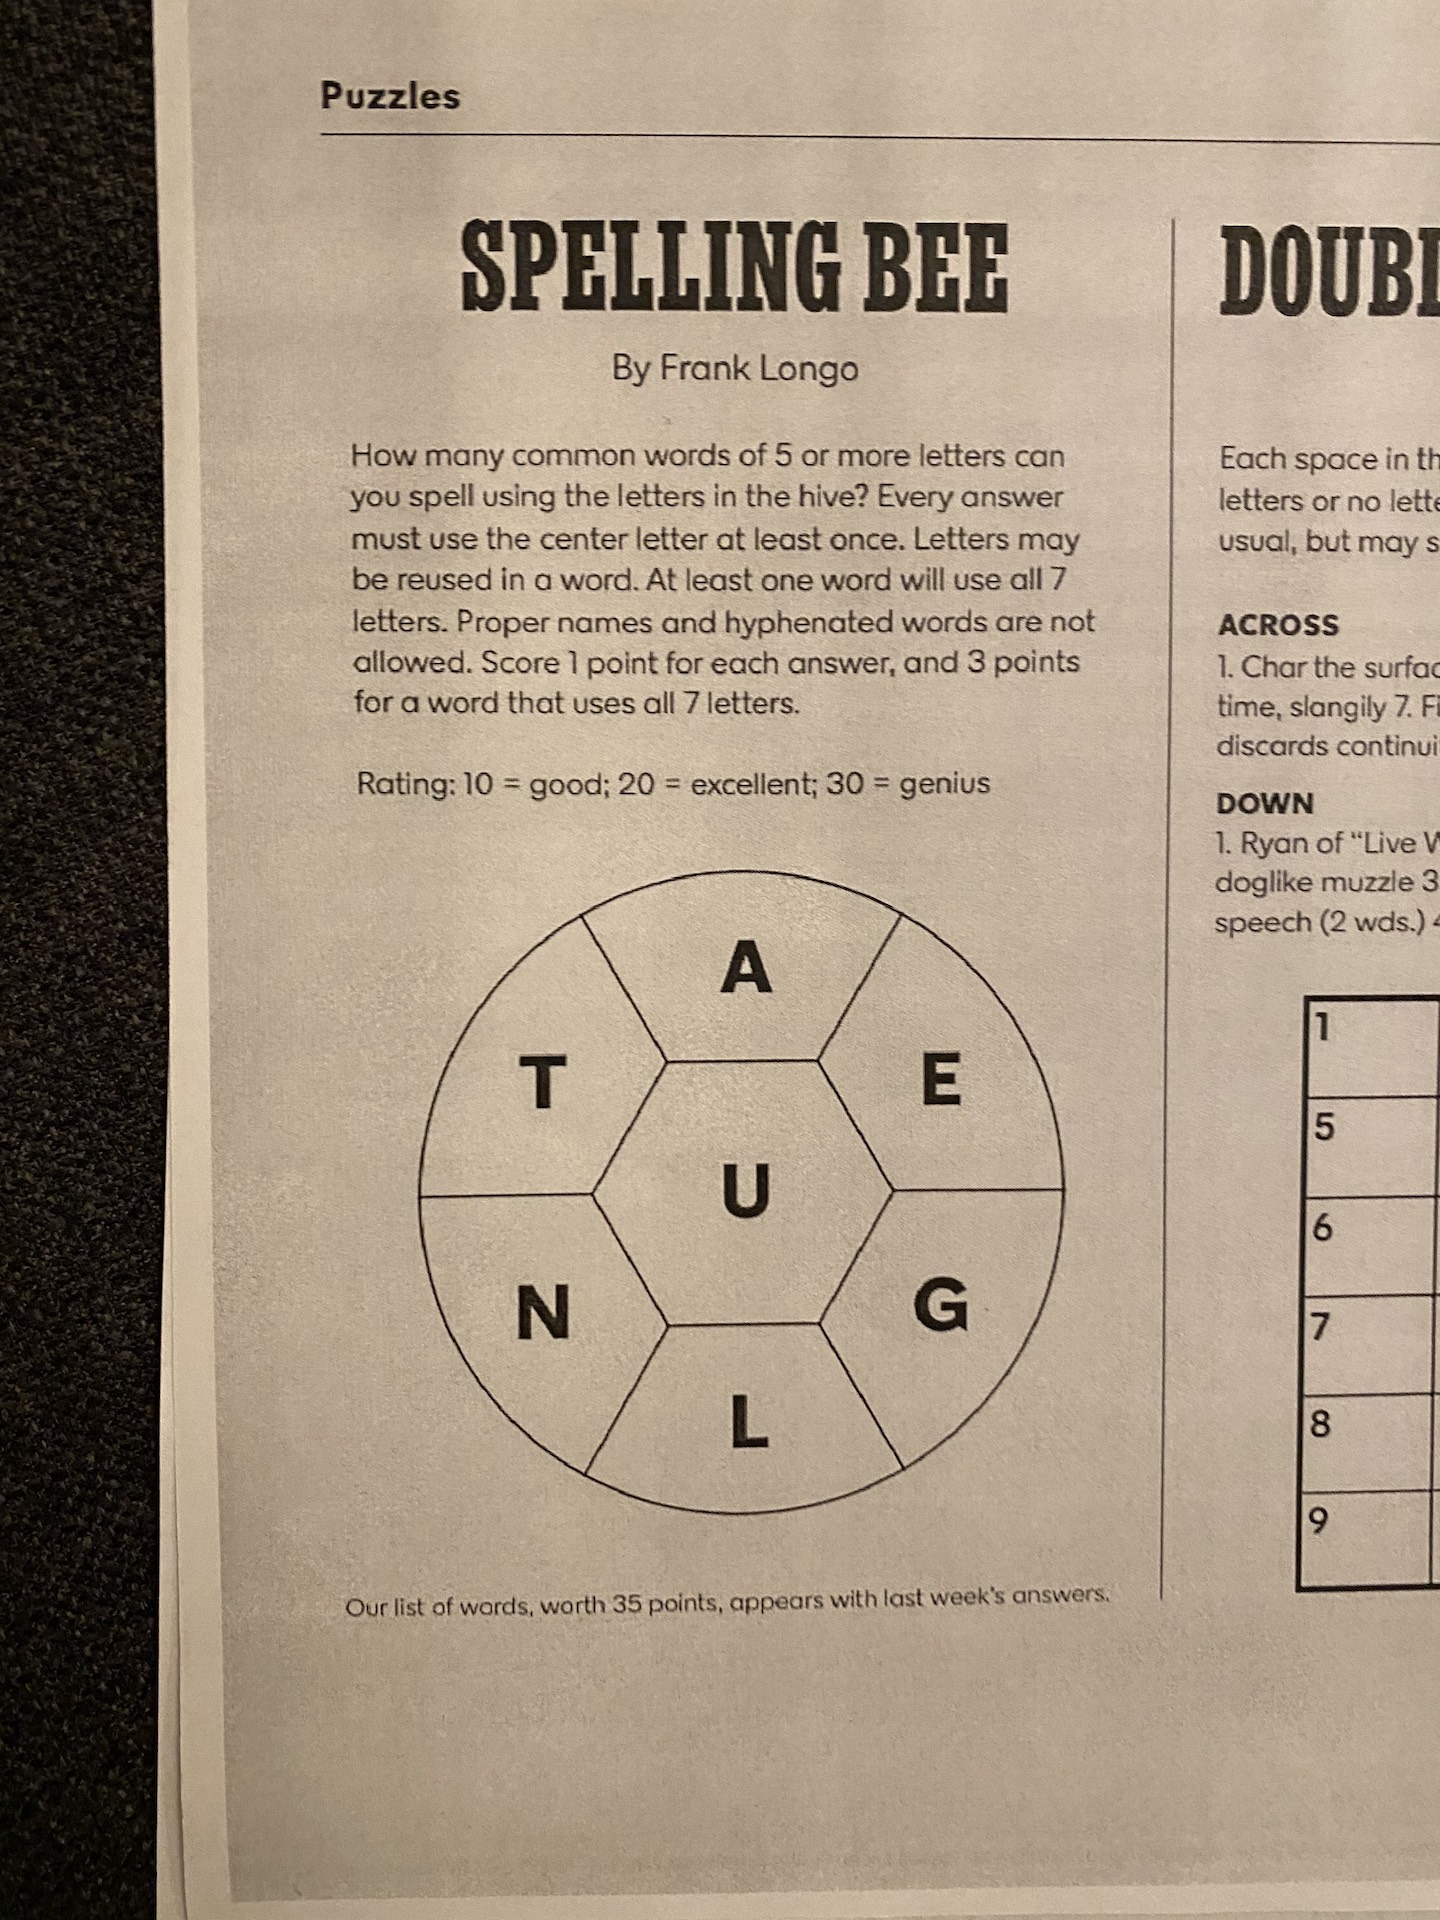Board: (393, 856, 1086, 1534)
